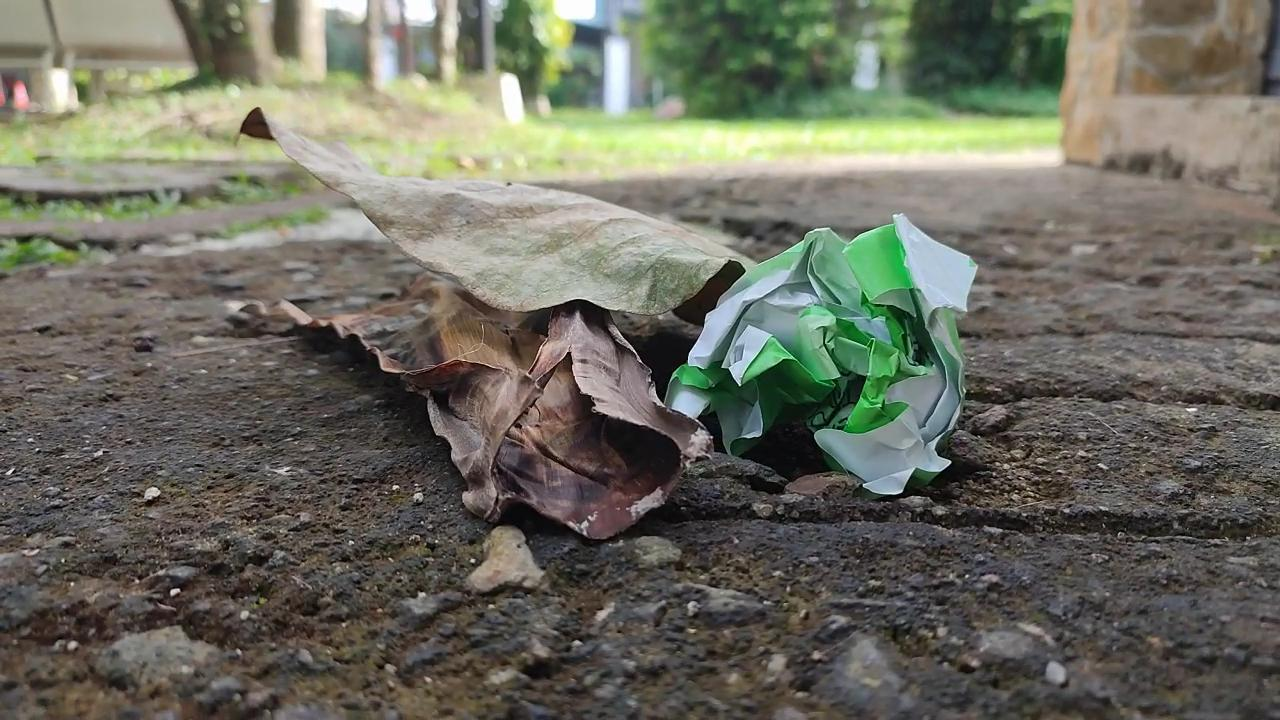Paper: (655, 198, 984, 514)
